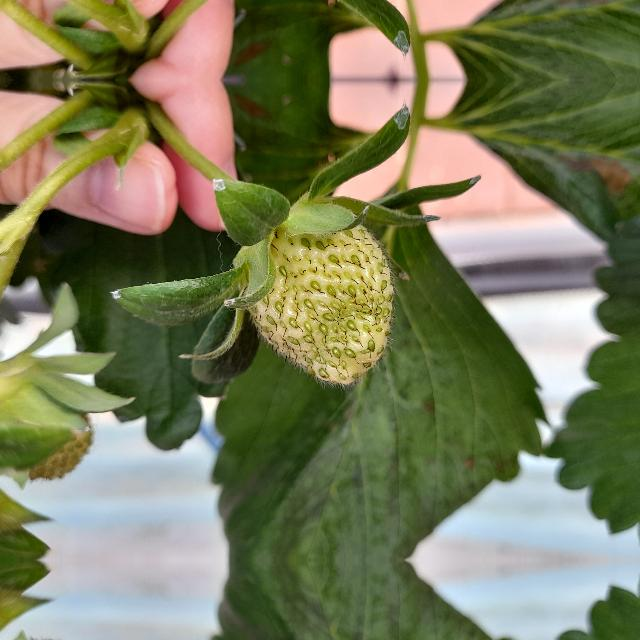Health_25: (247, 204, 393, 386)
